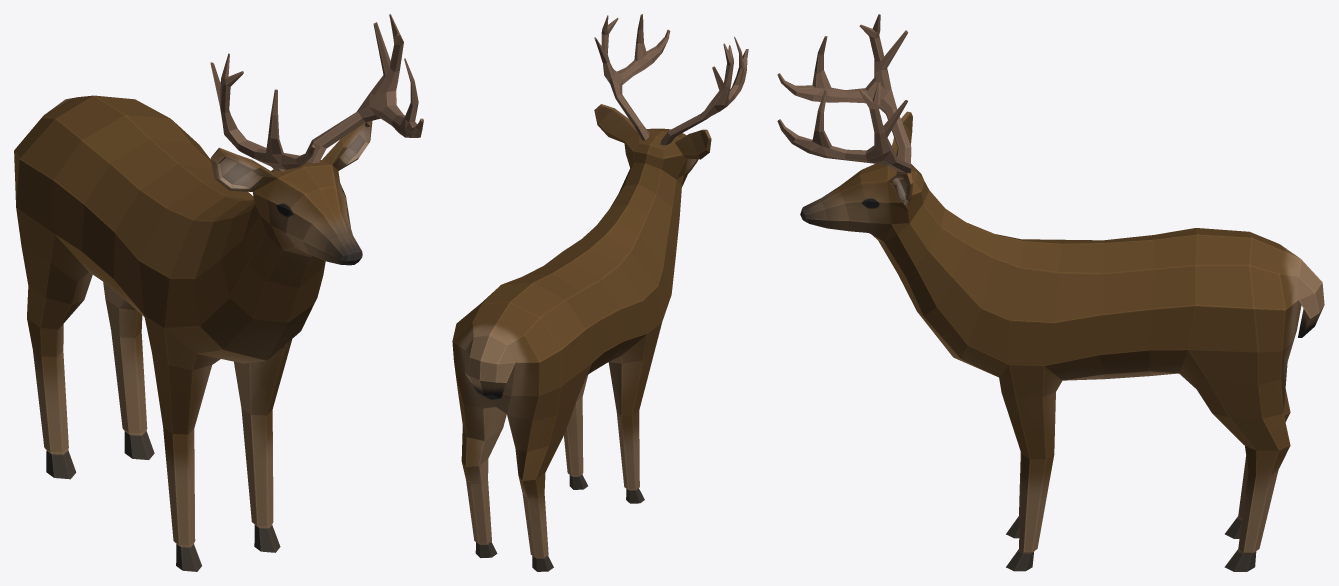
The model's file is Deer.obj.
3 views of the same model, side by side, from view 1: azimuth 30°, elevation 25°; view 2: azimuth 150°, elevation 25°; view 3: azimuth 270°, elevation 25° (orthographic). The views are drawn at different scales.
Parts seen in each view (by area): view 1: MuleDeer_mesh; view 2: MuleDeer_mesh; view 3: MuleDeer_mesh.
Part boxes in pixels (x1,y1,x2,y2): MuleDeer_mesh: [14, 14, 423, 571]; MuleDeer_mesh: [452, 14, 748, 571]; MuleDeer_mesh: [777, 14, 1324, 571].
Size of the model in its own units: 4.79 by 14.89 by 14.69.
Materials: 1 (1 with a texture image).
